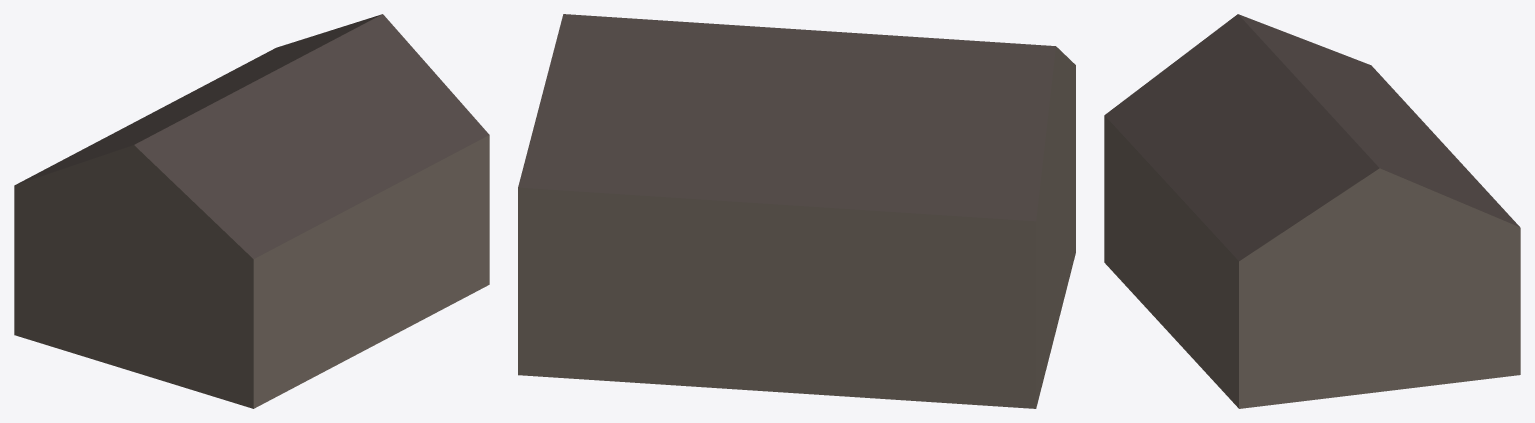
3 views of the same model, side by side, from view 1: azimuth 30°, elevation 25°; view 2: azimuth 150°, elevation 25°; view 3: azimuth 270°, elevation 25° (orthographic). The views are drawn at different scales.
Visible parts, largest first — view 1: HP-w1198875349; view 2: HP-w1198875349; view 3: HP-w1198875349.
Boxes of the visible parts, <box> form: HP-w1198875349: <box>14,14,489,408</box>; HP-w1198875349: <box>518,14,1075,408</box>; HP-w1198875349: <box>1104,14,1520,408</box>.
Bounding box in the file's own units: 17.12 × 9.1 × 15.34.
